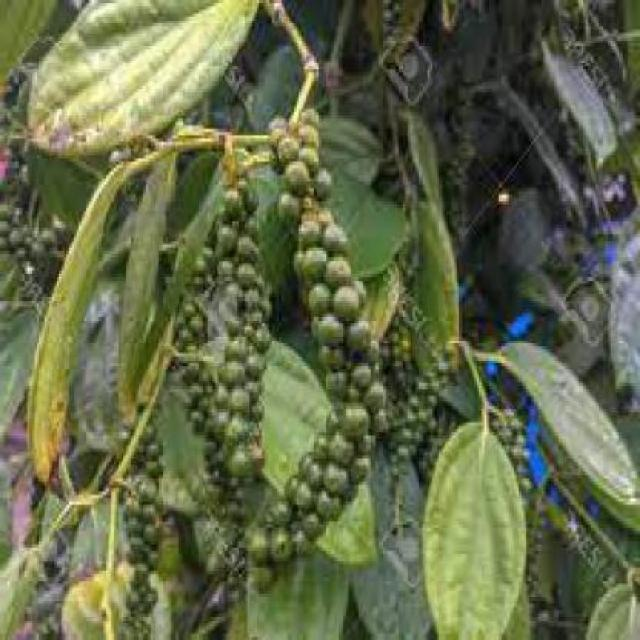UNRIPE: (284, 92, 351, 591), (202, 139, 267, 562)
